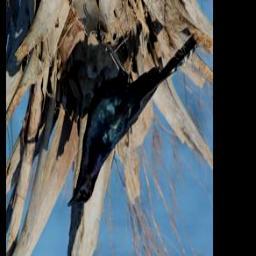Crow: (67, 22, 197, 208)
